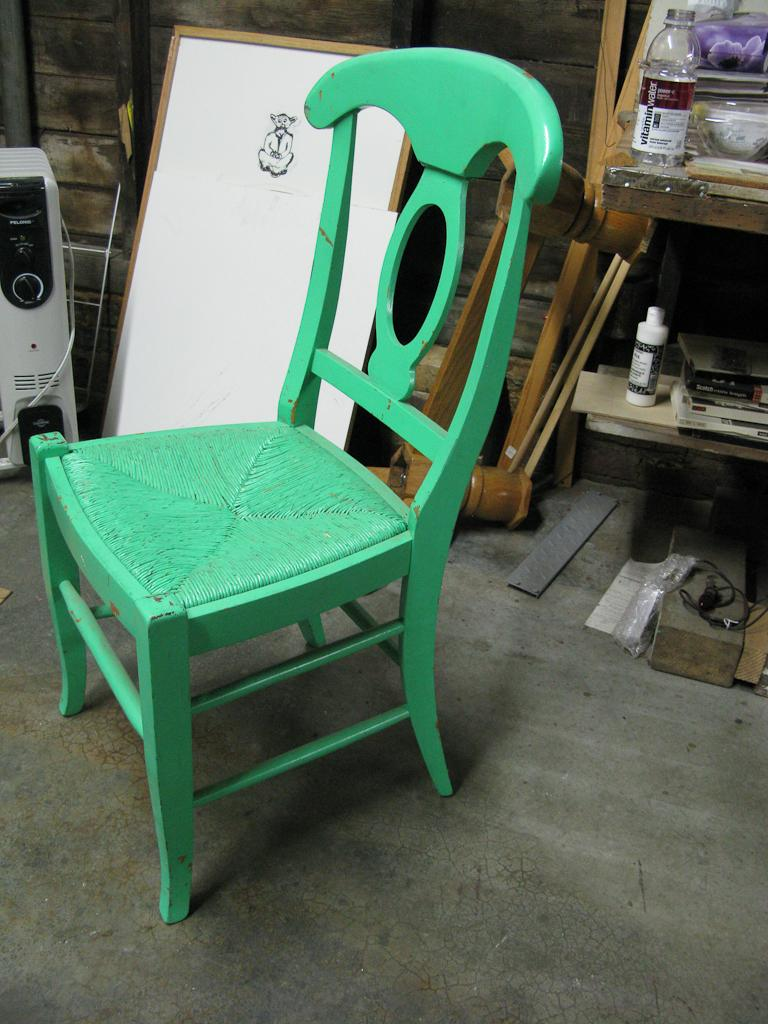chair: (29, 45, 565, 925)
